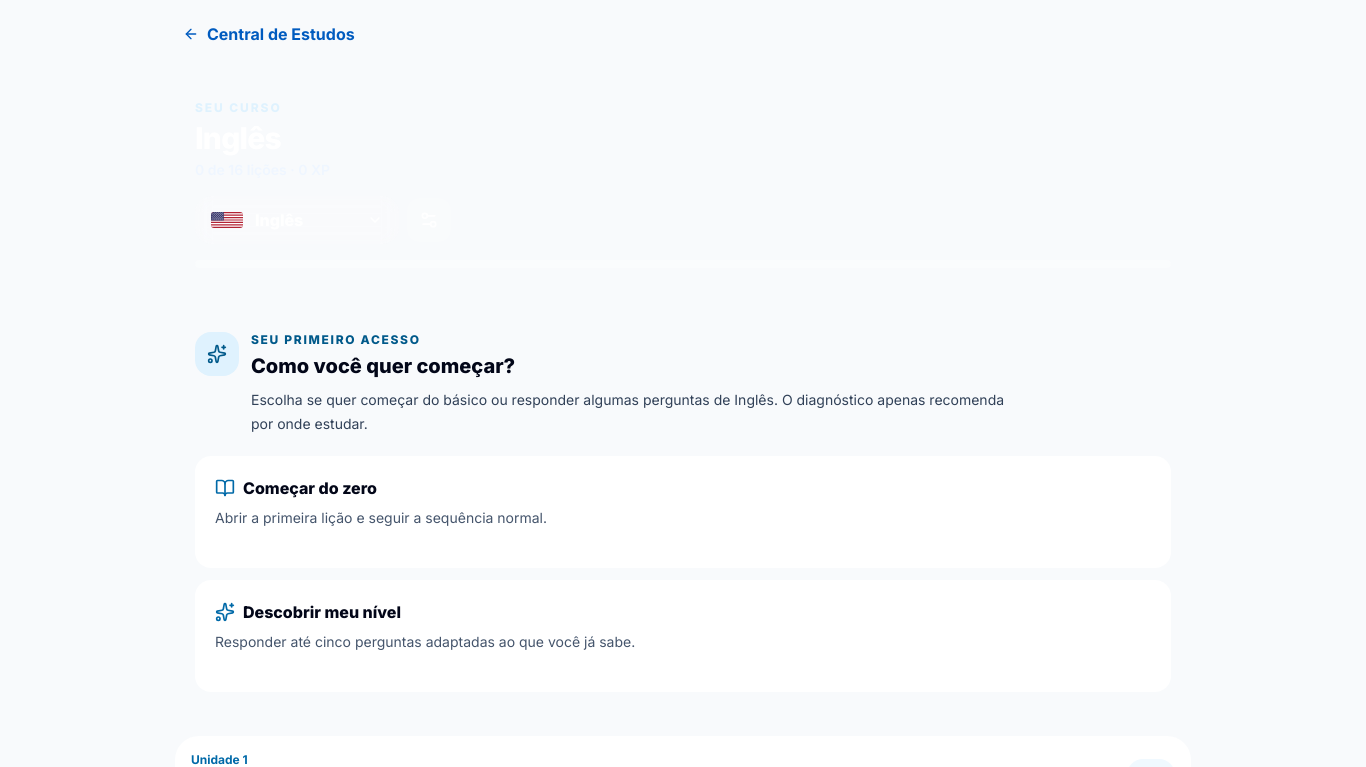
Test case: EnglishLearningPage · Tec Idiomas estudante › abre uma lição e mostra seus exercícios originais
Click the button "Começar do zero" at (310, 488), box [195, 456, 1171, 568]
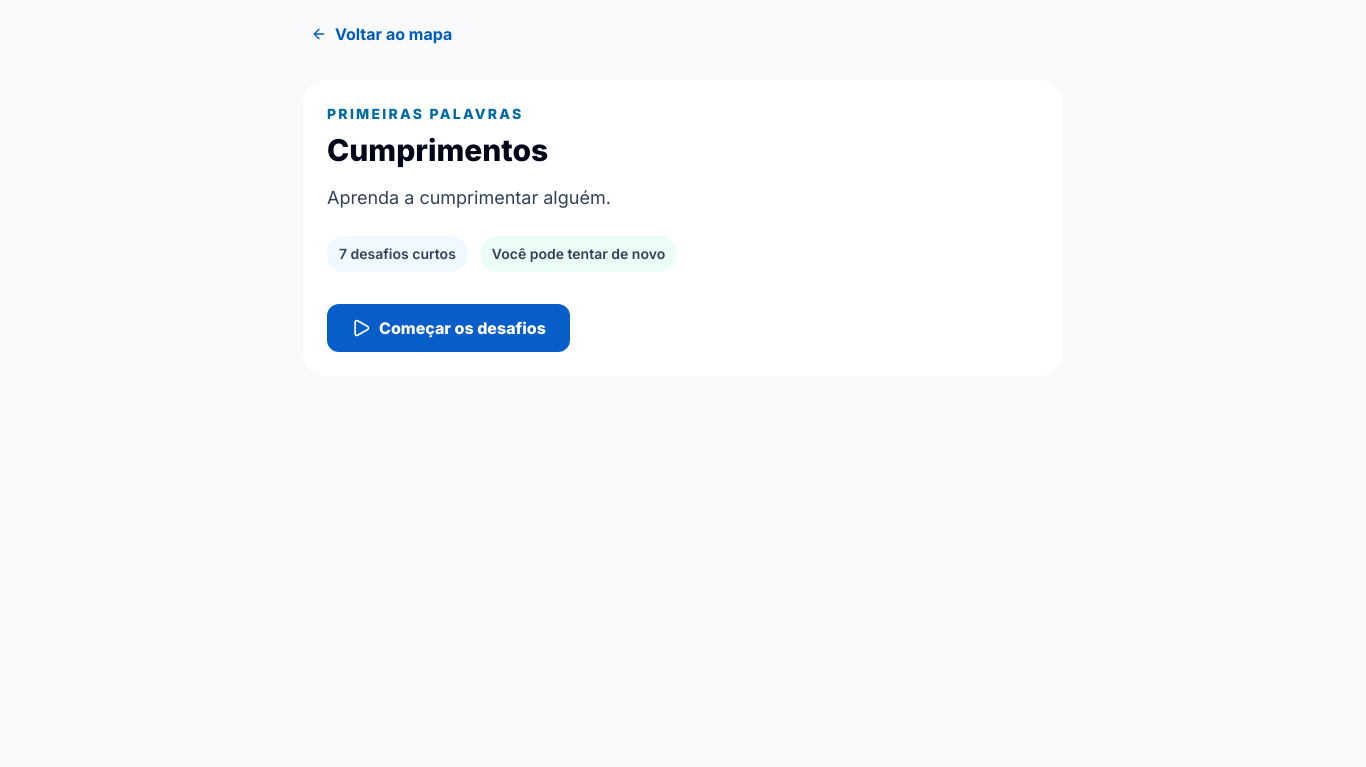
Now the heading "Cumprimentos" is shown, box [327, 132, 548, 168]
Now the text "Aprenda a cumprimentar alguém." is shown, box [327, 187, 611, 208]
Now the text "7 desafios curtos" is shown, box [327, 236, 468, 272]
